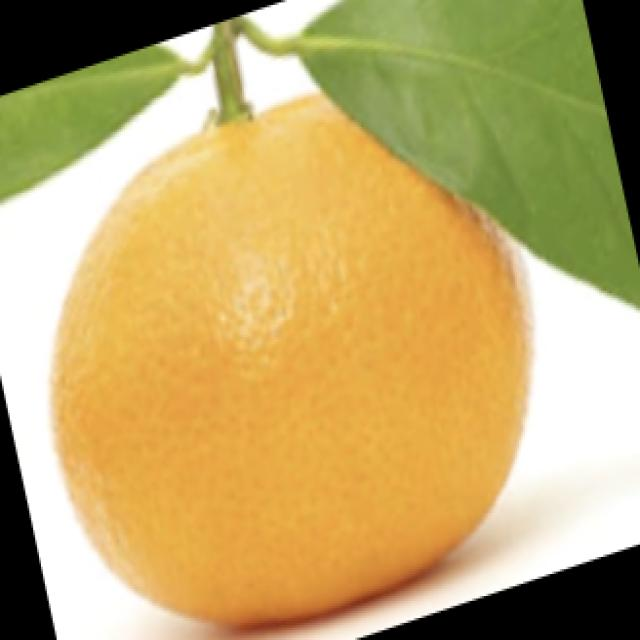matang: (53, 94, 533, 625)
